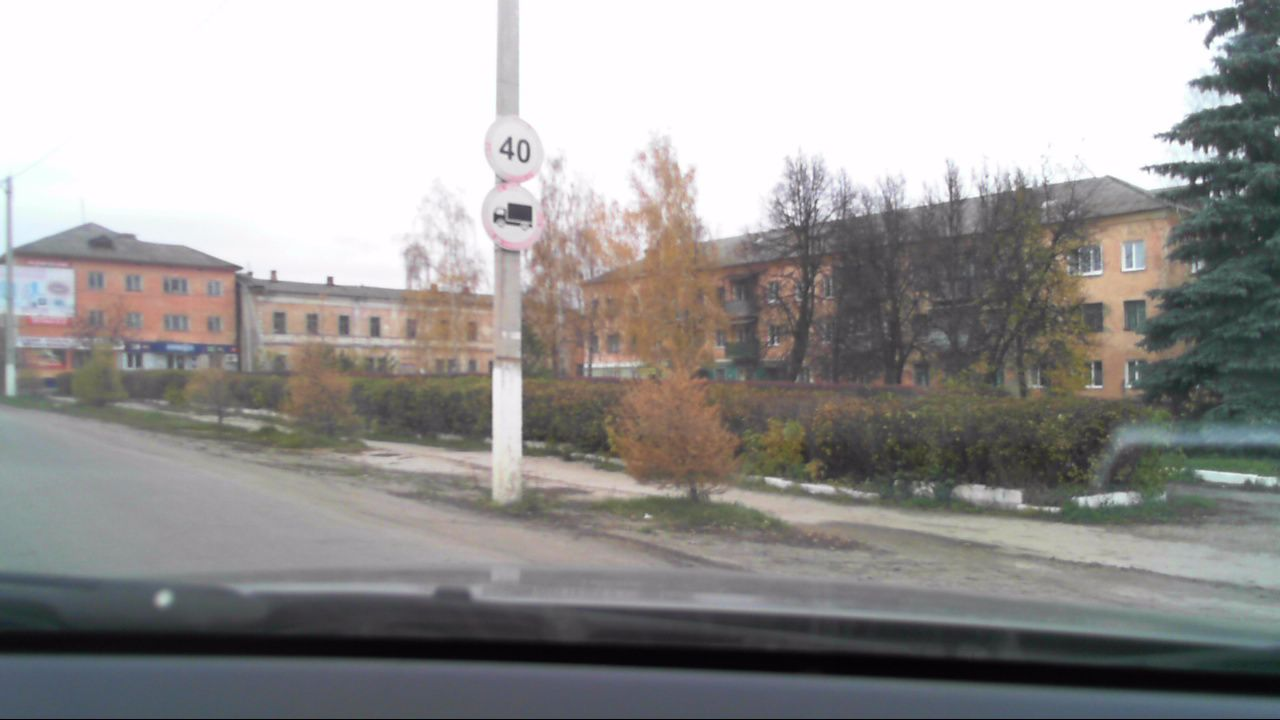speed_warning_40: (479, 110, 549, 184)
